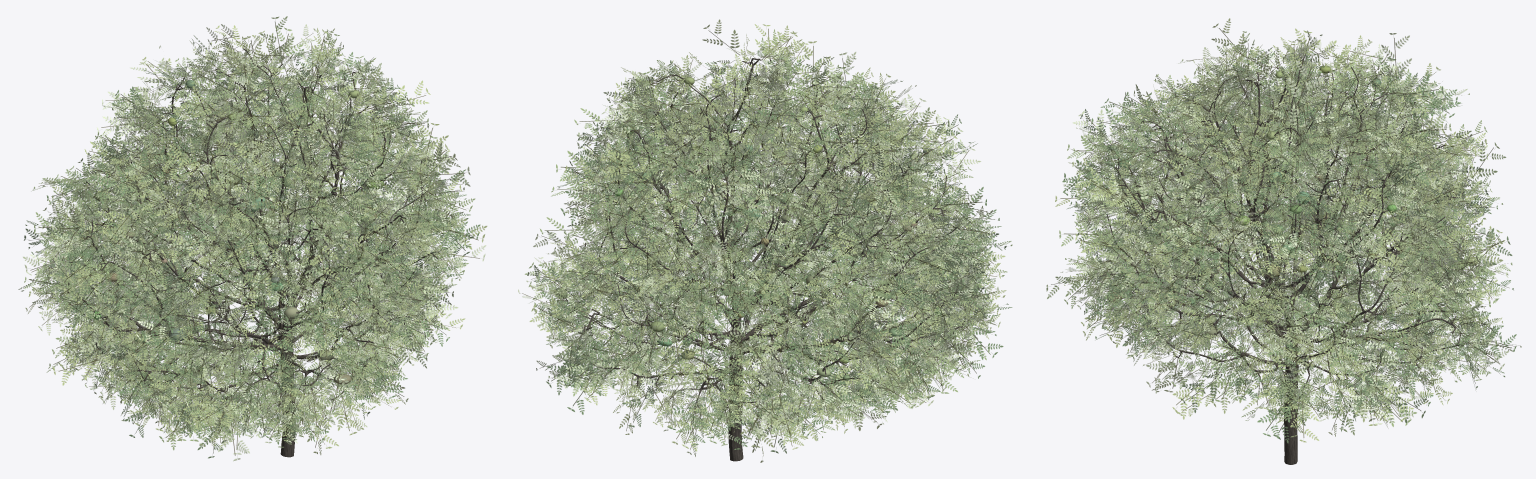
File: tree_41_broadleaf.glb
The picture shows the model from 3 angles, left to right: view 1: azimuth 30°, elevation 25°; view 2: azimuth 150°, elevation 25°; view 3: azimuth 270°, elevation 25°; orthographic projection.
Visible parts, largest first — view 1: tree_41_broadleaf.leaves, tree_41_broadleaf.trunk_branches, tree_41_broadleaf.foliage_volume; view 2: tree_41_broadleaf.leaves, tree_41_broadleaf.trunk_branches, tree_41_broadleaf.foliage_volume; view 3: tree_41_broadleaf.leaves, tree_41_broadleaf.trunk_branches, tree_41_broadleaf.foliage_volume.
Boxes of the visible parts, x1,y1,x2,y2 form: tree_41_broadleaf.leaves: [18, 16, 487, 461]; tree_41_broadleaf.trunk_branches: [67, 48, 437, 457]; tree_41_broadleaf.foliage_volume: [92, 67, 394, 384]; tree_41_broadleaf.leaves: [518, 19, 1012, 462]; tree_41_broadleaf.trunk_branches: [560, 58, 965, 461]; tree_41_broadleaf.foliage_volume: [554, 77, 954, 398]; tree_41_broadleaf.leaves: [1046, 18, 1521, 443]; tree_41_broadleaf.trunk_branches: [1100, 54, 1463, 464]; tree_41_broadleaf.foliage_volume: [1107, 65, 1479, 361].
Bounding box in the file's own units: 14.24 × 13.63 × 13.58.
3 materials, 2 textured.
